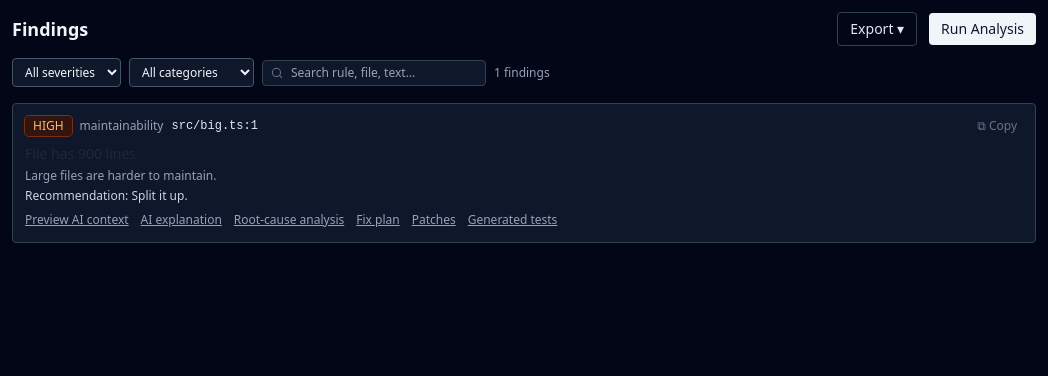
Test case: FindingsPage › disables 'Generate root-cause analysis' when no AI provider is enabled
Expected: the text "src/big.ts:1" is shown, [172,118,258,134]
What coordinates should you click on to do the following:
click the button "Root-cause analysis"
I would click on:
 (289, 220)
Its box is [234,212,344,228].
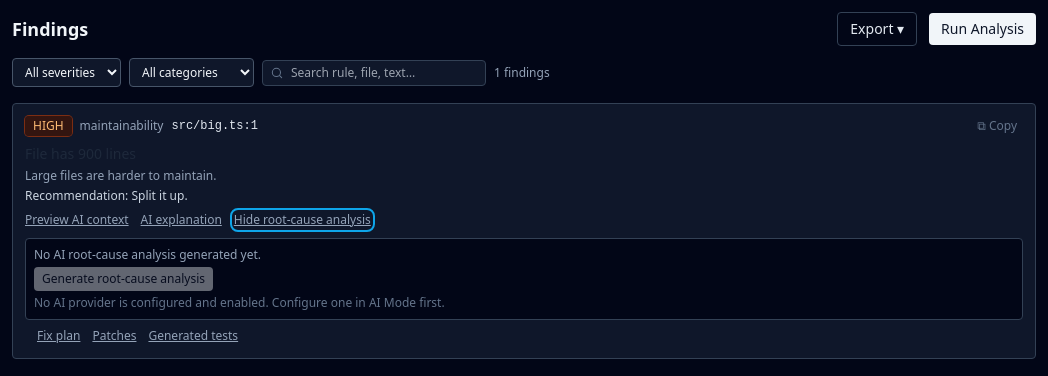
Result: the text "No AI root-cause analysis generated yet." is shown at [34,246,261,263]
Result: the button "Generate root-cause analysis" is disabled at [34,267,213,291]
